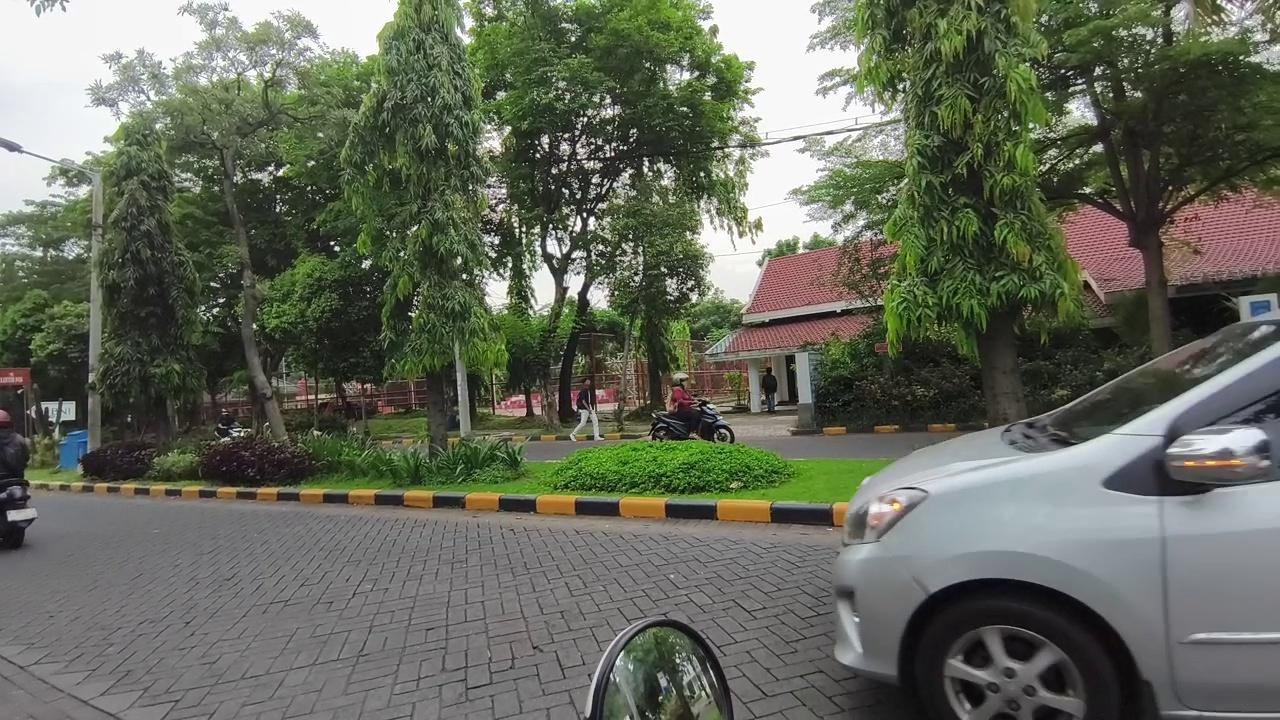Helmet: (0, 410, 29, 484), (669, 372, 700, 436)
Motor: (649, 399, 734, 443), (0, 481, 37, 549)
